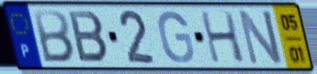2: (118, 8, 159, 67)
B: (66, 9, 112, 65), (32, 8, 77, 65)
G: (156, 9, 196, 65)
H: (198, 10, 248, 65)
N: (236, 8, 285, 67)
